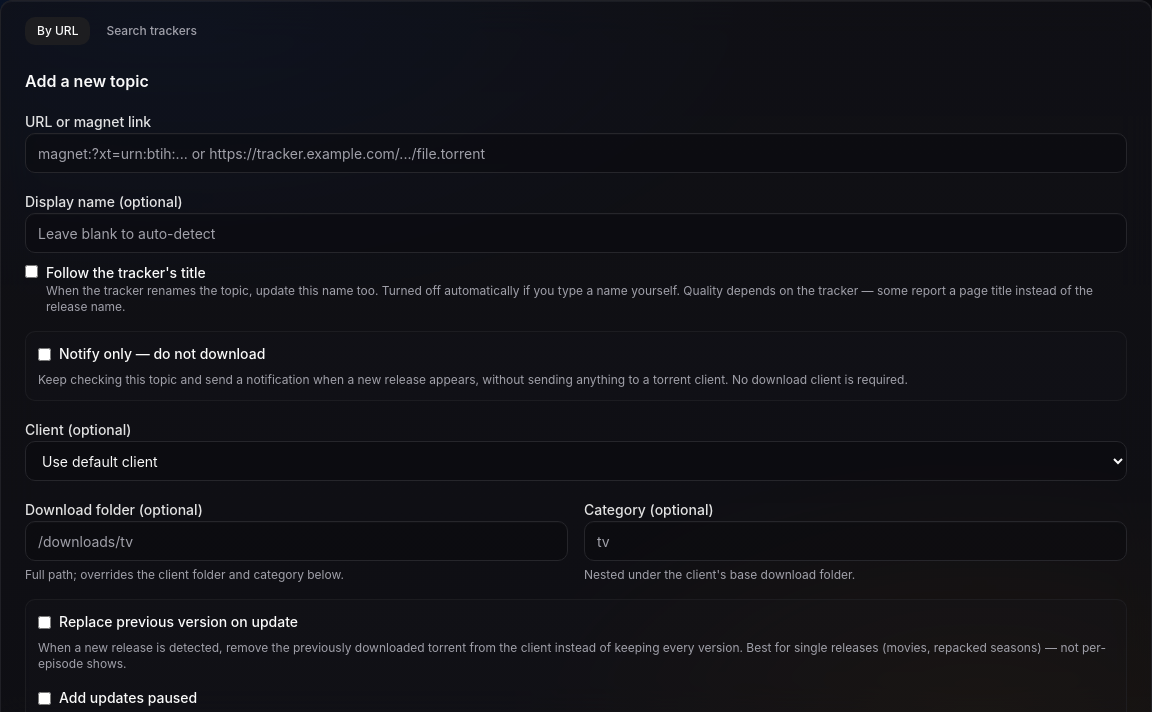
Test: AddTopicCard › prefills the URL form when a search result is picked
Click the button "Search trackers" at (152, 31), box [94,17,209,45]
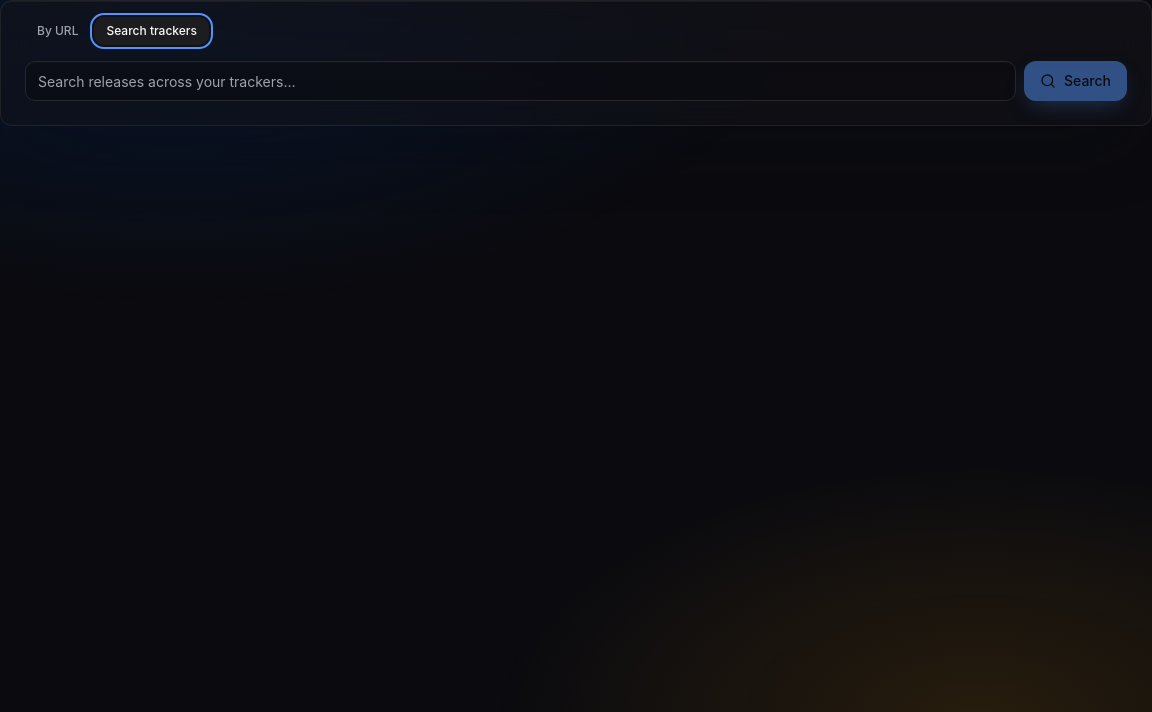
Type "picked" into the field with placeholder "Search releases across your trackers…" at (520, 81), box [25,61,1016,101]
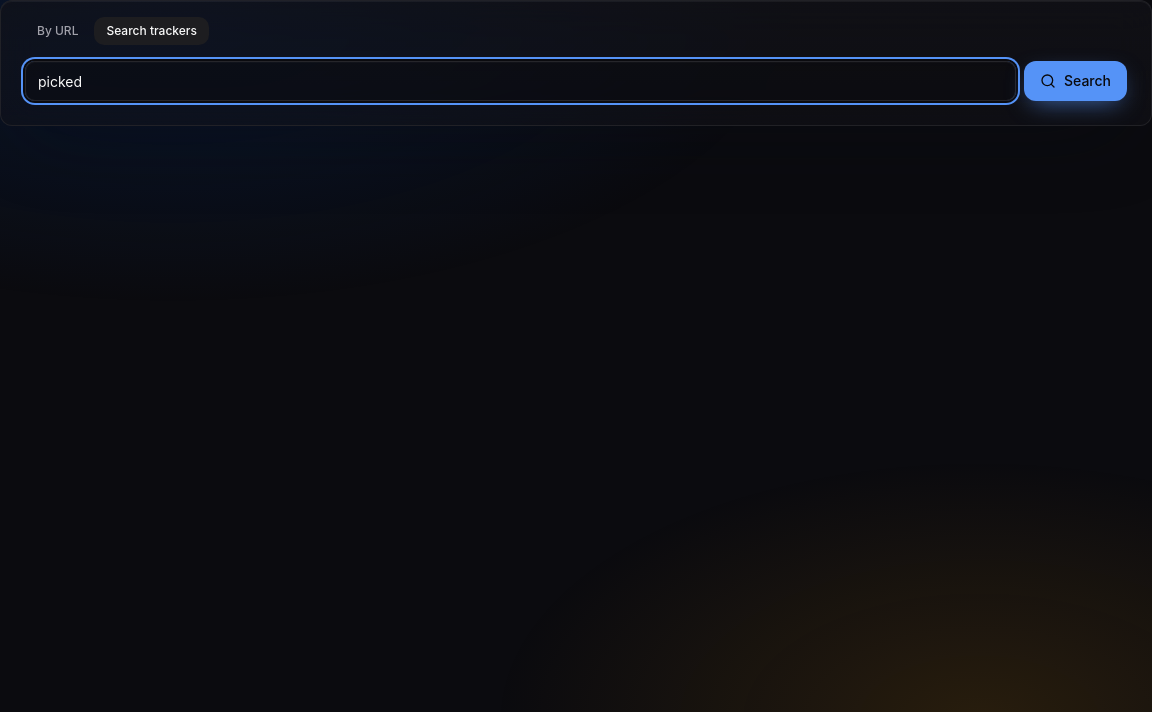
Click the button "Search" at (1076, 81), box [1024,61,1127,101]
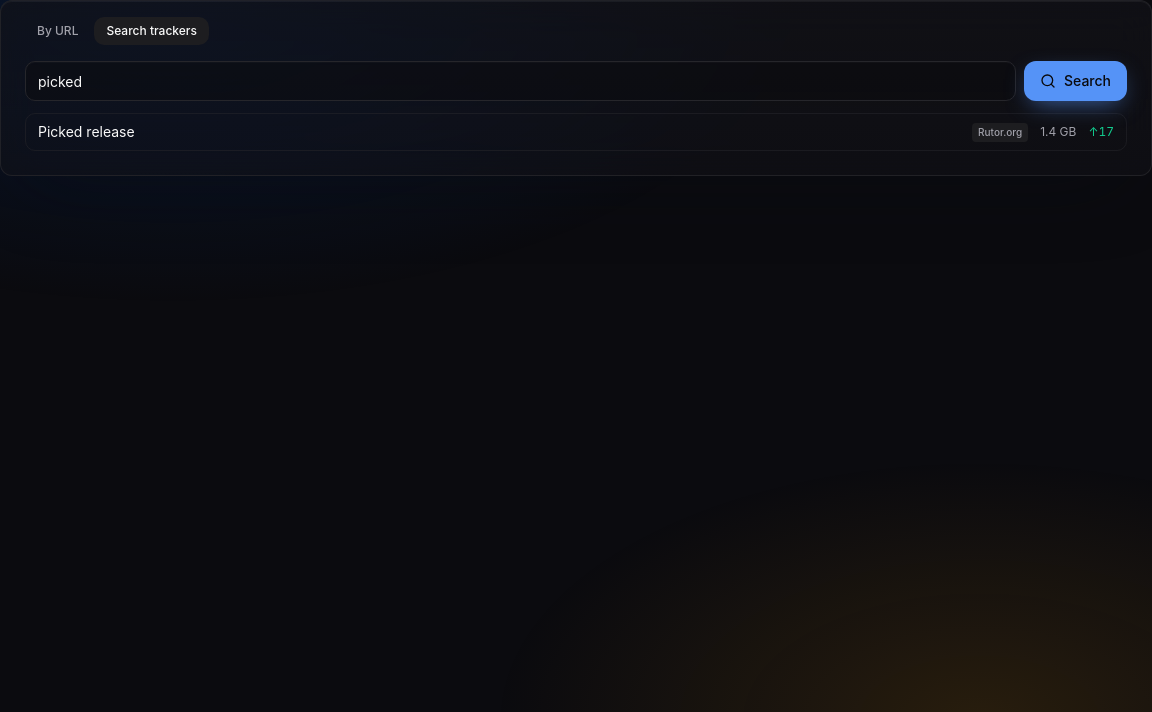
Click the text "Picked release" at (86, 132), box [38,123,135,140]
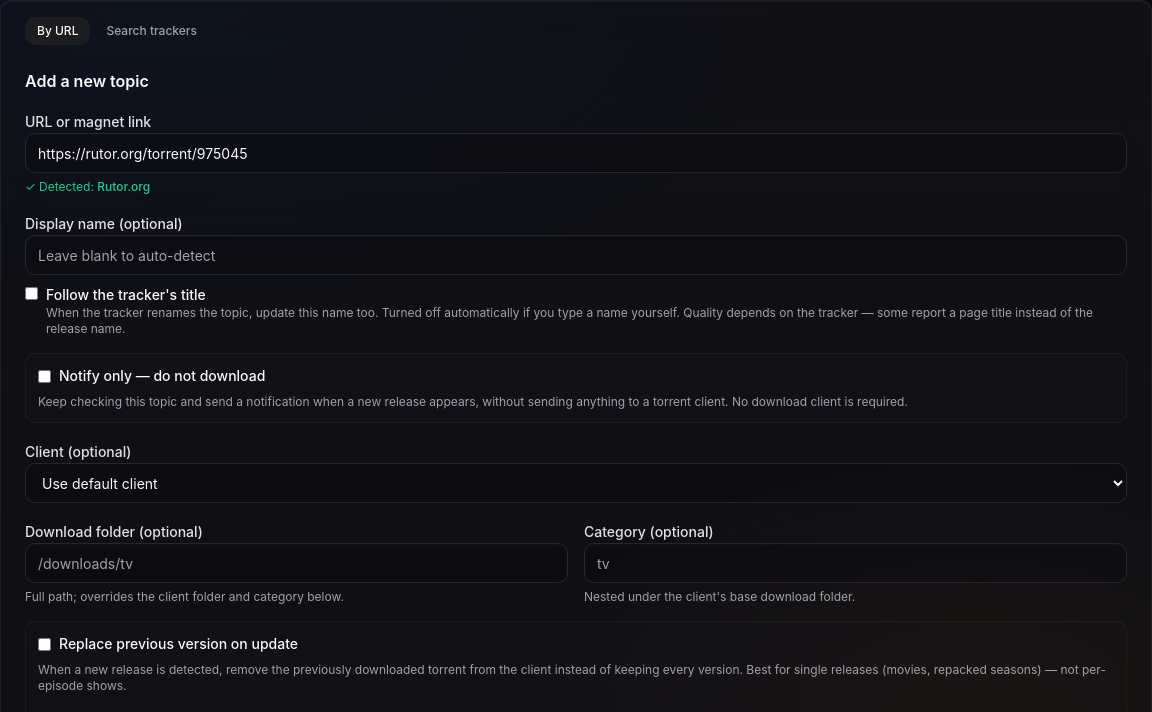
Expected: the field labelled "URL or magnet link" holds "https://rutor.org/torrent/975045", [25,133,1127,173]
